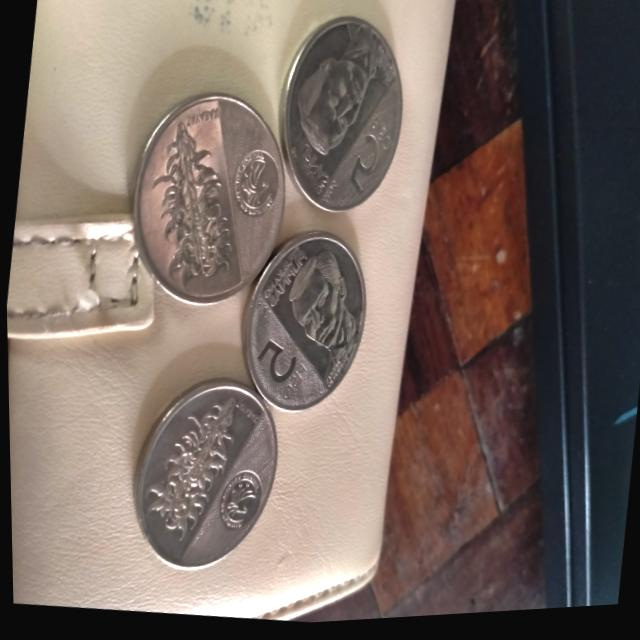5_New_Back: (132, 98, 255, 309), (135, 384, 242, 554)
5_New_Front: (244, 319, 323, 422), (338, 105, 401, 205)
